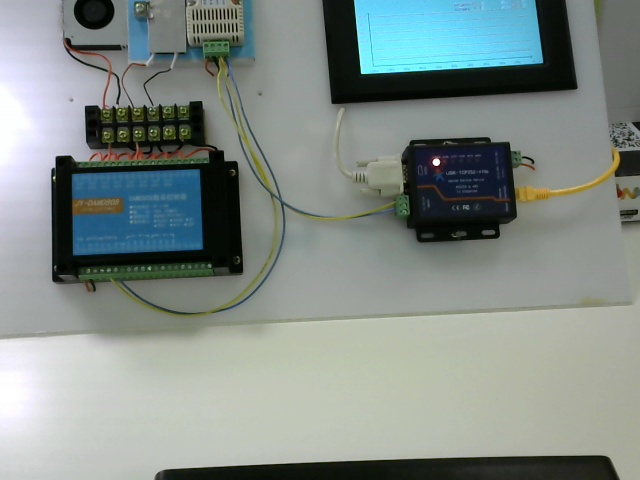relay: (34, 154, 257, 295)
termperature: (403, 140, 529, 259)
